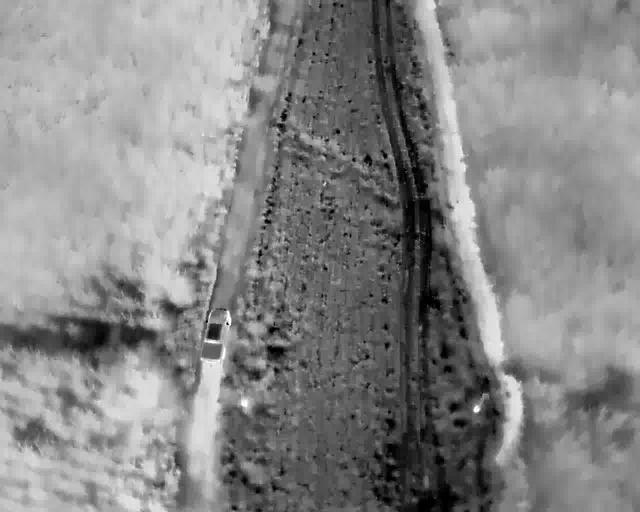car: (199, 308, 231, 363)
